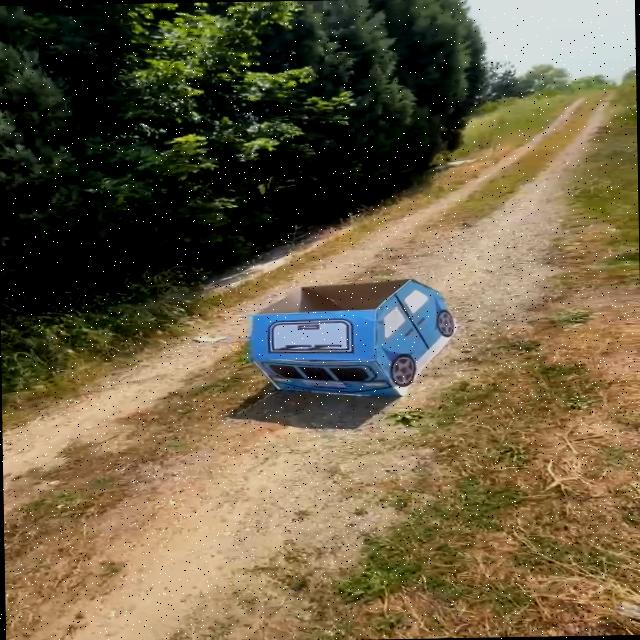blue_car: (220, 261, 490, 415)
